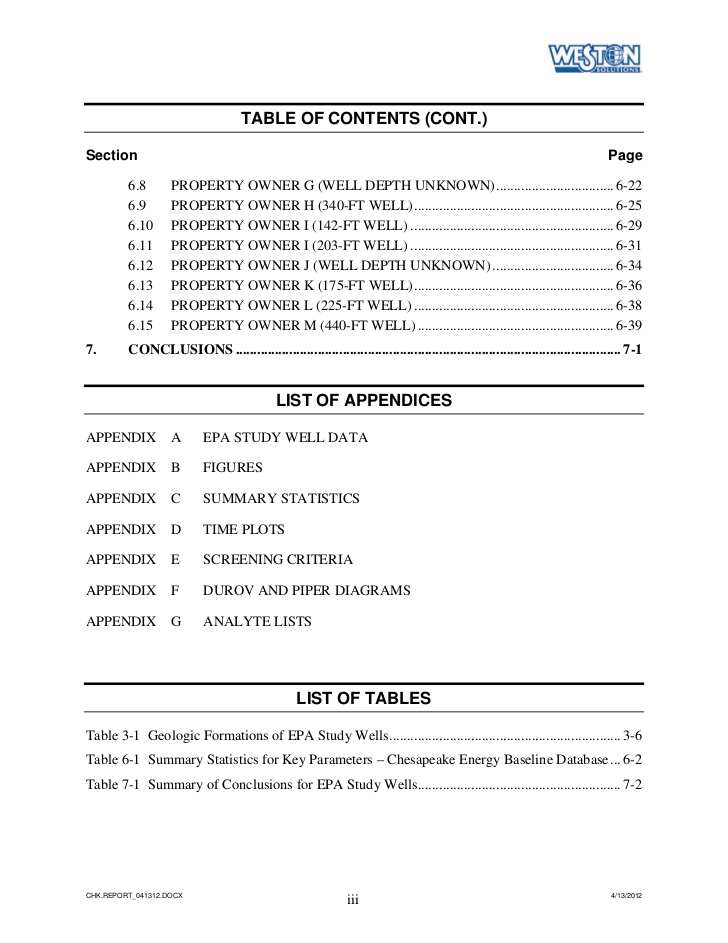fracking table: (79, 100, 648, 361), (76, 377, 652, 634), (78, 674, 654, 807)
